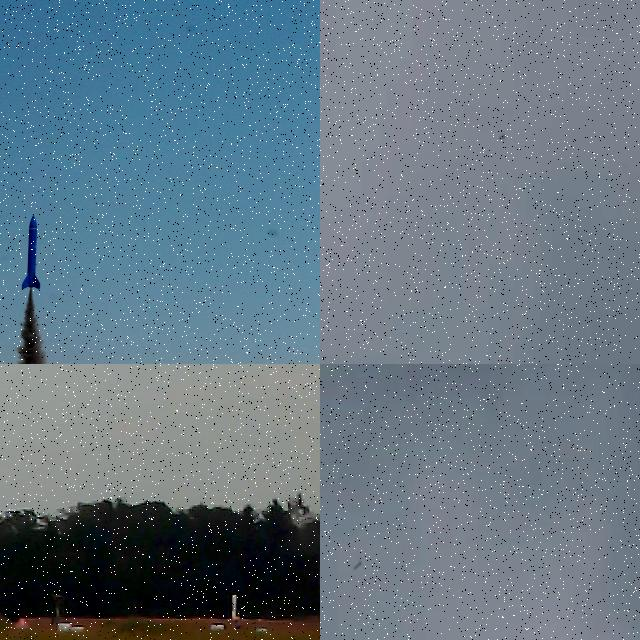Rocket: (22, 215, 42, 290), (232, 595, 239, 620), (354, 561, 362, 570), (499, 134, 505, 139)
